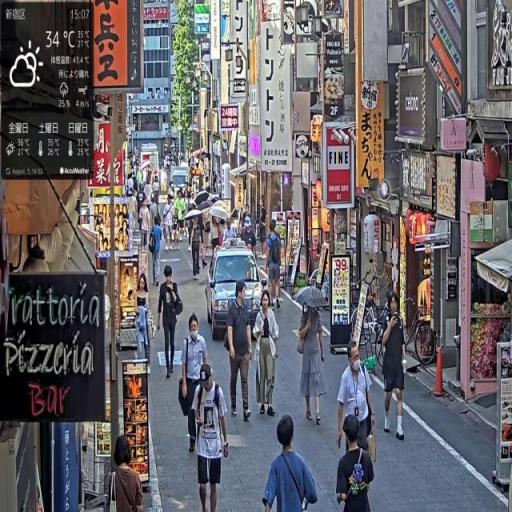person: (193, 360, 231, 512), (263, 415, 320, 512), (336, 342, 377, 460), (180, 313, 212, 454), (226, 278, 255, 424), (335, 414, 377, 512), (381, 291, 408, 442), (297, 296, 328, 427), (254, 289, 280, 420), (157, 266, 185, 379), (112, 433, 145, 512), (267, 223, 285, 312), (151, 216, 165, 289), (191, 215, 204, 281), (140, 200, 152, 256)
